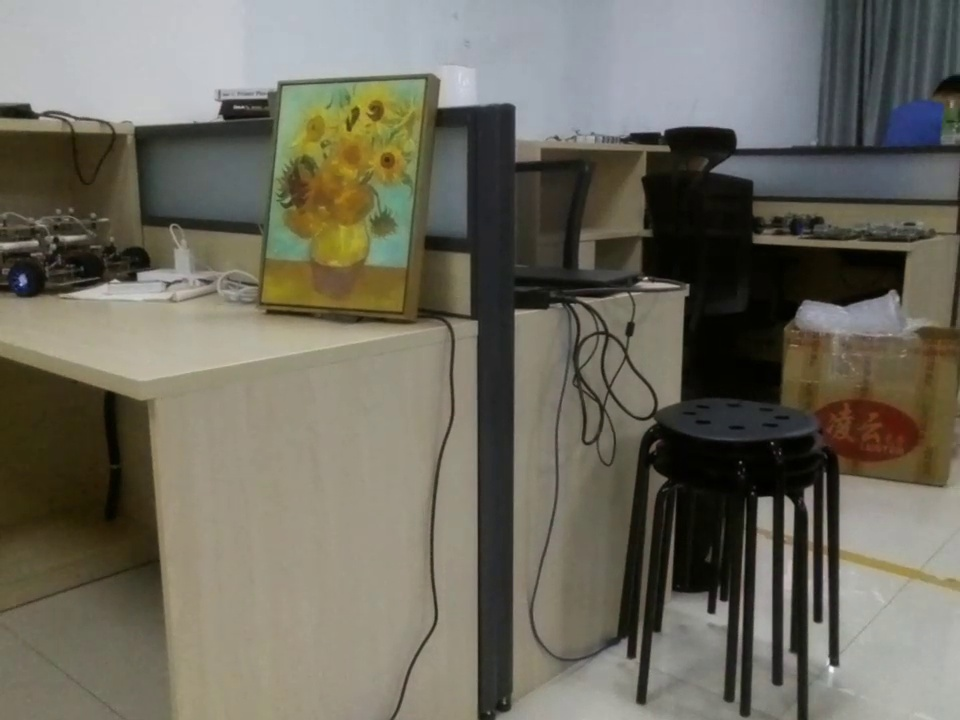painting: (259, 76, 444, 319)
